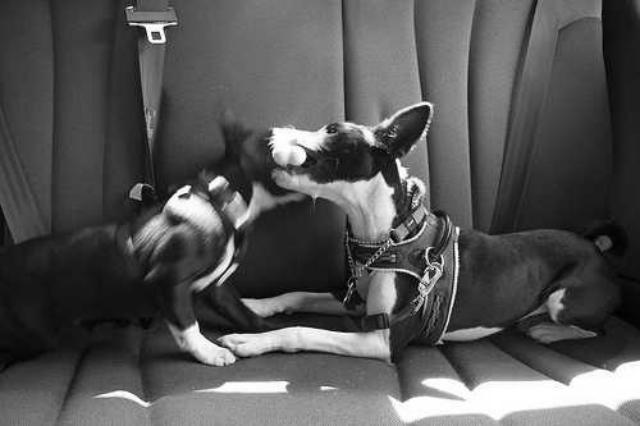Seatbelt: (486, 1, 562, 236), (118, 0, 184, 200), (0, 94, 52, 249)
